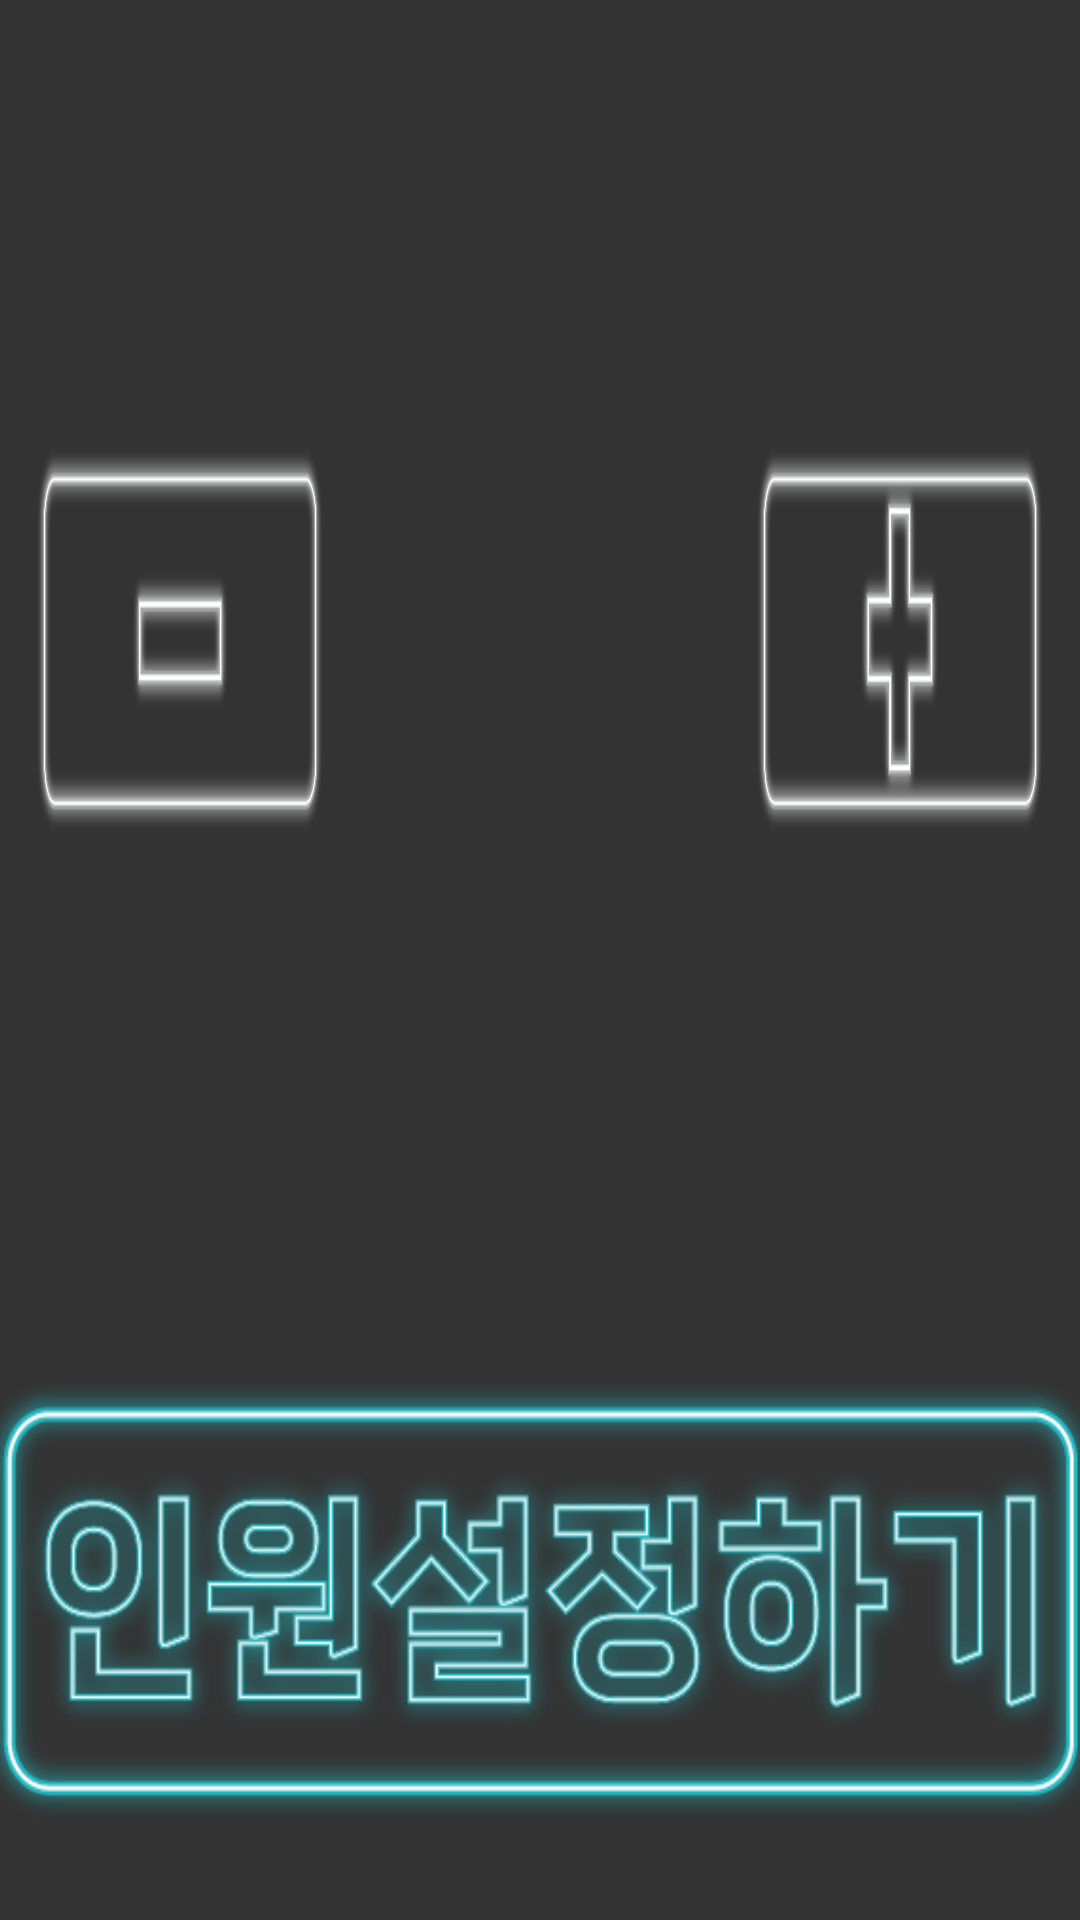

Icons on this 1080×1920 Android screen, each with its box as box=[x1, y1, x2, y2]:
minus: box=[40, 461, 320, 819]
plus: box=[760, 461, 1040, 819]
